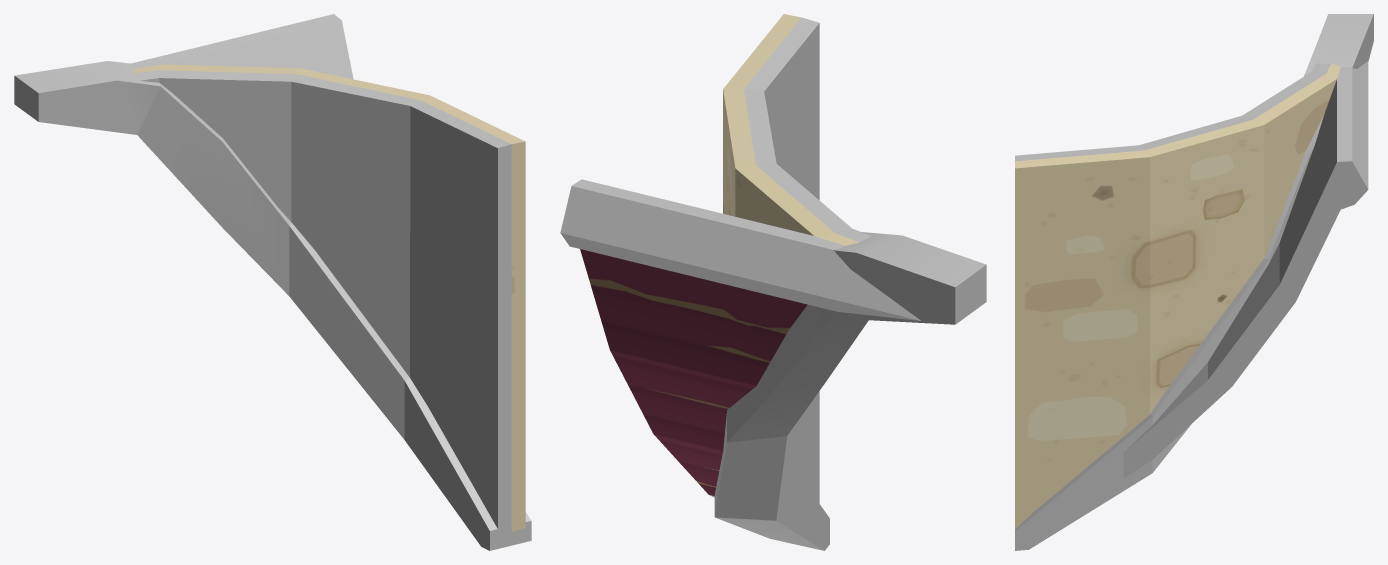
The model's file is SM_Bld_Roof_Concave_Tower_03.fbx.
3 renders of one model, left to right at view 1: azimuth 30°, elevation 25°; view 2: azimuth 150°, elevation 25°; view 3: azimuth 270°, elevation 25°, orthographic. The views are drawn at different scales.
Parts seen in each view (by area): view 1: SM_Bld_Roof_Concave_Tower_03; view 2: SM_Bld_Roof_Concave_Tower_03; view 3: SM_Bld_Roof_Concave_Tower_03.
Boxes of the visible parts, left/top/right/bottom form: SM_Bld_Roof_Concave_Tower_03: left=14, top=14, right=531, bottom=550; SM_Bld_Roof_Concave_Tower_03: left=560, top=14, right=986, bottom=550; SM_Bld_Roof_Concave_Tower_03: left=1015, top=14, right=1373, bottom=550.
Size of the model in its own units: 266 by 315 by 266.
